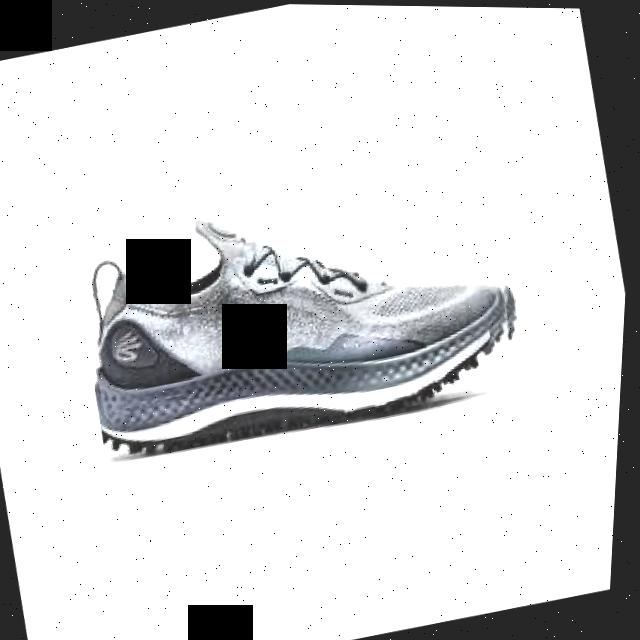shoe: (65, 154, 541, 470)
